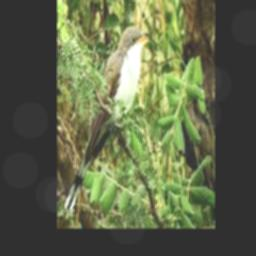Cuckoo: (64, 26, 152, 211)
